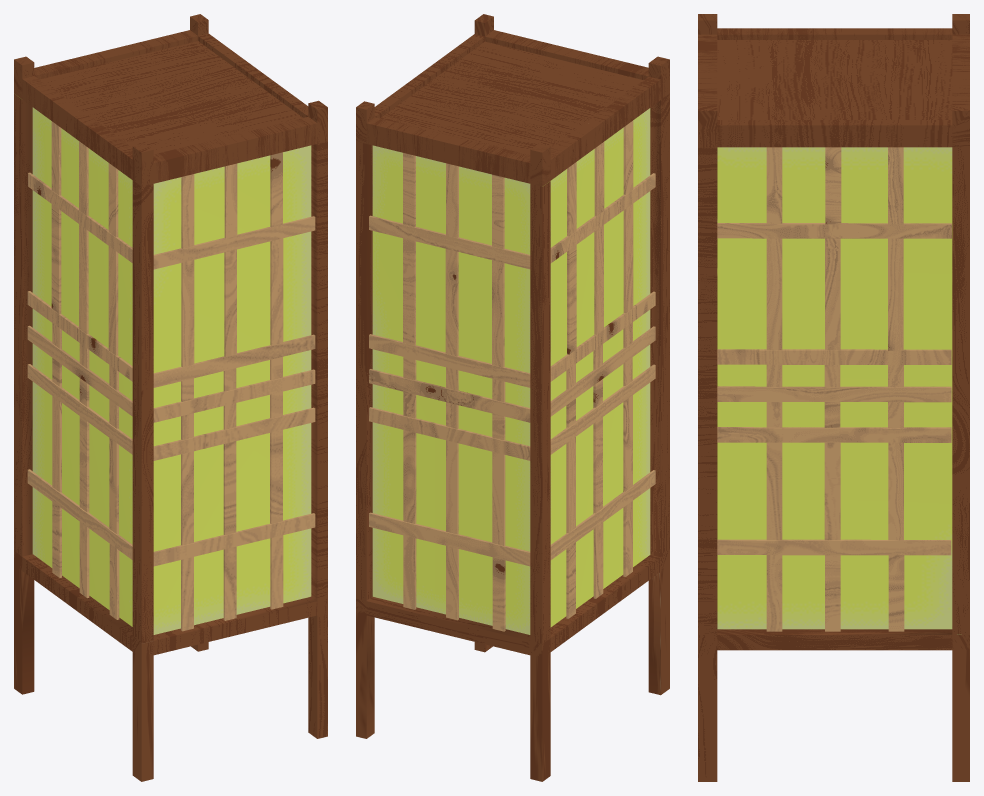
The model's file is mdl_hub_japaneselantern.gltf.
3 renders of one model, left to right at view 1: azimuth 30°, elevation 25°; view 2: azimuth 150°, elevation 25°; view 3: azimuth 270°, elevation 25°, orthographic. The views are drawn at different scales.
Visible parts, largest first — view 1: pCube15, pCube32, pCube30; view 2: pCube15, pCube31, pCube30; view 3: pCube15, pCube29.
Part boxes in pixels (bbox=[...]): pCube15: bbox=[14, 14, 327, 781]; pCube32: bbox=[153, 152, 315, 631]; pCube30: bbox=[27, 121, 132, 619]; pCube15: bbox=[356, 14, 669, 781]; pCube31: bbox=[369, 153, 530, 631]; pCube30: bbox=[550, 120, 655, 618]; pCube15: bbox=[698, 14, 969, 781]; pCube29: bbox=[717, 147, 951, 631].
Size of the model in its own units: 2.65 by 8.56 by 3.14.
Materials: 1 (1 with a texture image).
